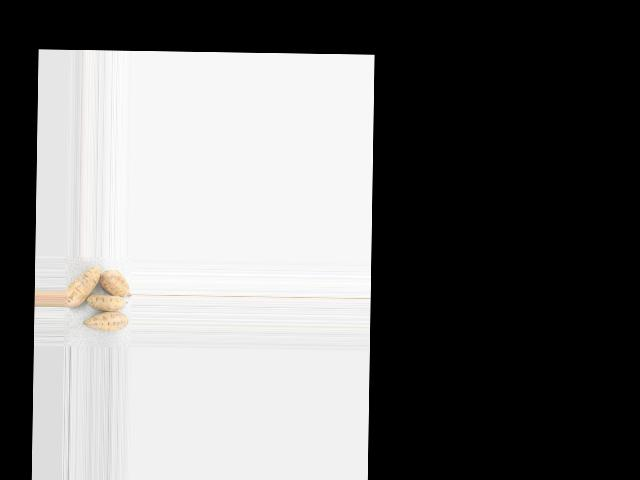sweet_potato: (63, 261, 100, 312)
